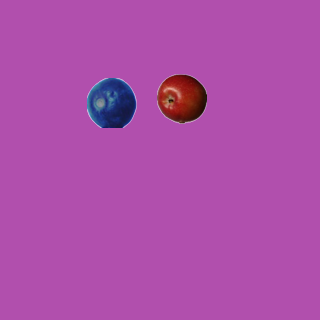Apple Braeburn: (156, 73, 206, 123)
Huckleberry: (86, 77, 136, 127)
